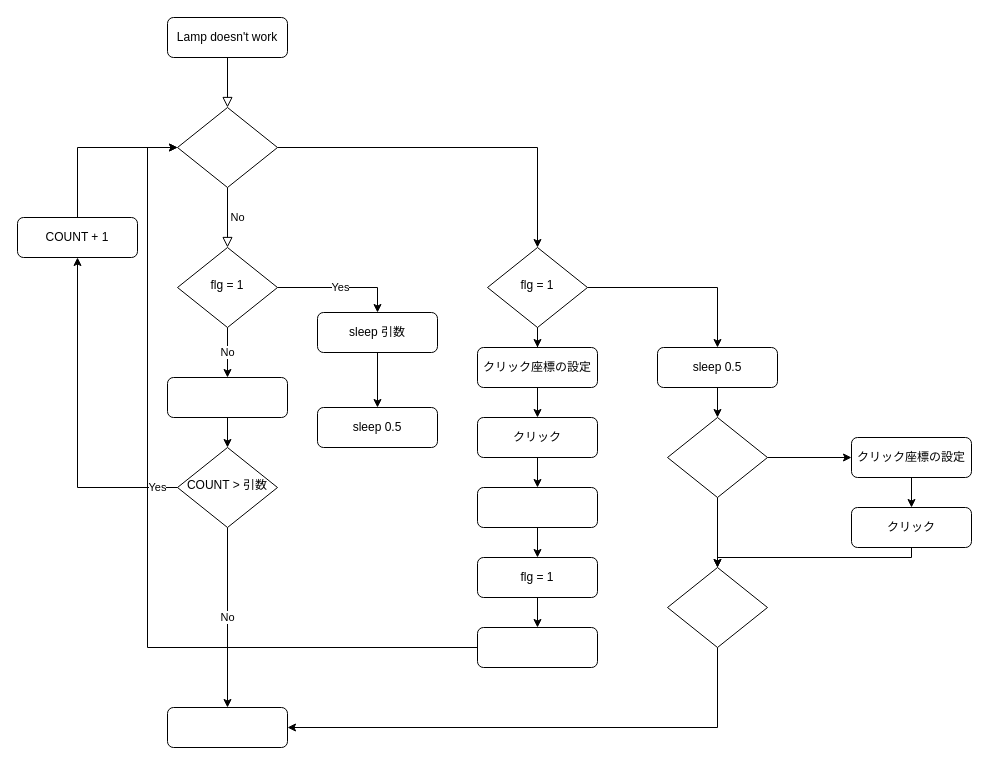
Some shapes in this 989 by 765 pixel diagram are drawn without their labels. The shapes that lost their labels are listed below. From the top down, each one's centre as x and y in pixels, then its label:
At point (227, 147): "ボタンが ある？".
At point (227, 397): "sleep 0.1".
At point (717, 457): "COUNT > 3".
At point (537, 507): "sleep 1".
At point (717, 607): "COUNT > 10".
At point (537, 647): "COUNT = 0".
At point (227, 727): "Erorr End".
